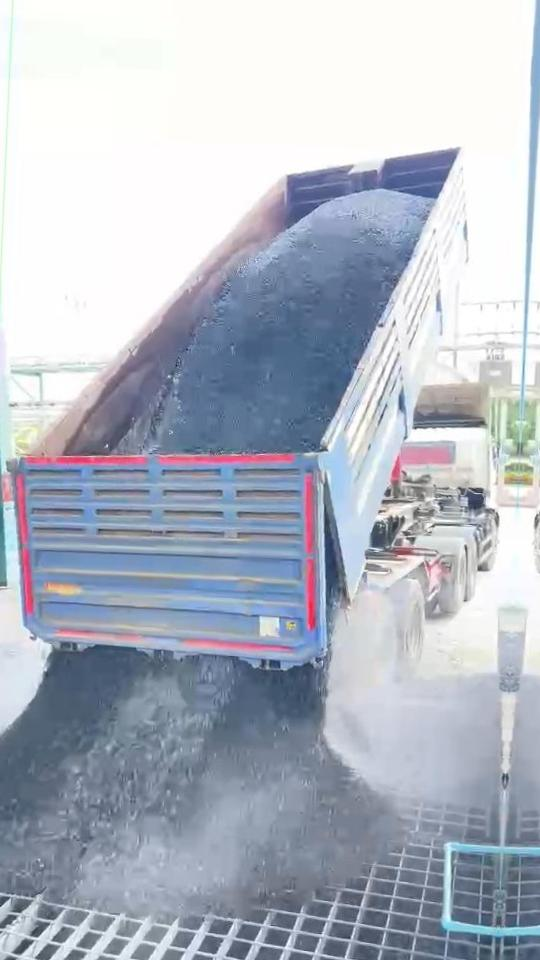gravel: (0, 648, 394, 915), (120, 189, 433, 453)
